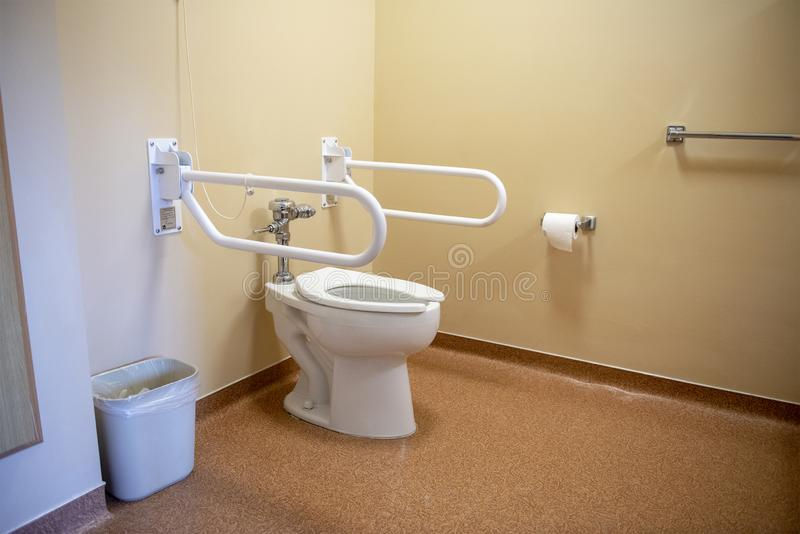dispenser: (540, 209, 598, 254)
restroom_assist_bar: (175, 164, 389, 268), (339, 154, 510, 227), (667, 124, 800, 146)
toilet: (264, 268, 444, 440)
toilet_handle: (249, 221, 281, 237)
waste_bin: (89, 356, 201, 503)
